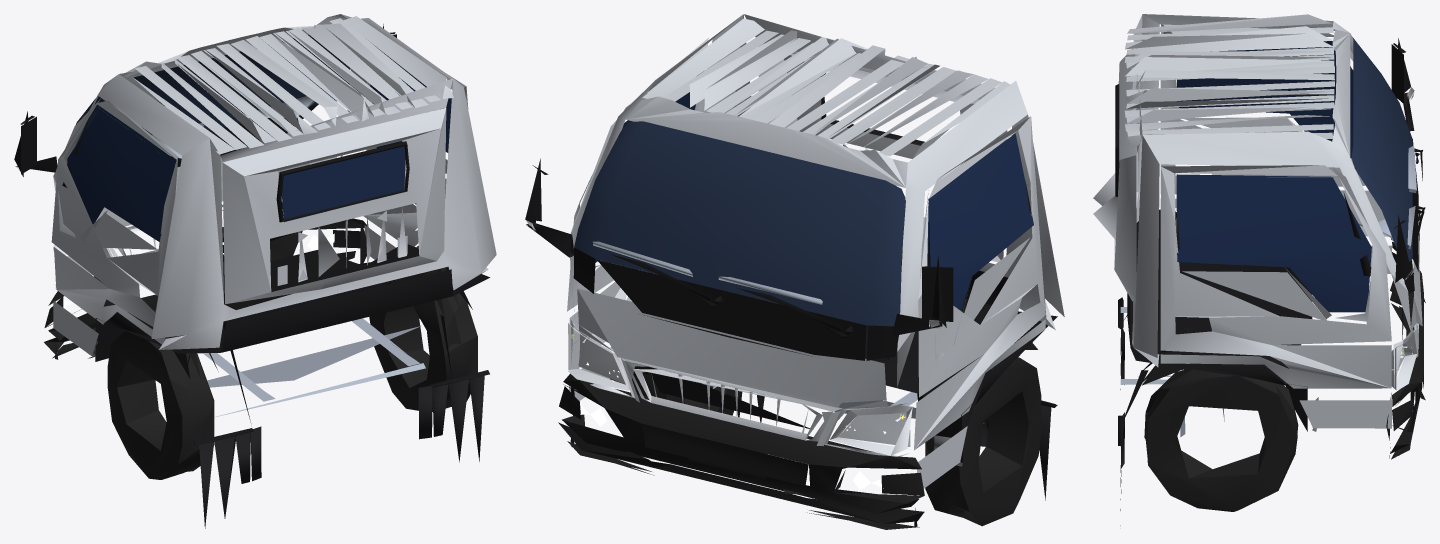
The model's file is cab_curta_lod2.glb.
The picture shows the model from 3 angles, left to right: view 1: azimuth 30°, elevation 25°; view 2: azimuth 150°, elevation 25°; view 3: azimuth 270°, elevation 25°; orthographic projection. The views are drawn at different scales.
Parts seen in each view (by area): view 1: lod2_paint_white_panel, lod2_rubber_tire, lod2_plastic_black, lod2_glass, lod2_rubber, lod2_steel, lod2_plastic_trim, lod2_glass_wind; view 2: lod2_paint_white_panel, lod2_glass_wind, lod2_plastic_trim, lod2_plastic_black, lod2_rubber_tire, lod2_chrome, lod2_glass, lod2_steel, lod2_rubber; view 3: lod2_paint_white_panel, lod2_glass, lod2_rubber_tire, lod2_plastic_black, lod2_glass_wind, lod2_plastic_trim, lod2_chrome, lod2_steel, lod2_rubber.
Part boxes in pixels (bbox=[...]): lod2_paint_white_panel: bbox=[51, 14, 496, 355]; lod2_rubber_tire: bbox=[107, 274, 477, 479]; lod2_plastic_black: bbox=[14, 24, 489, 445]; lod2_glass: bbox=[67, 45, 451, 241]; lod2_rubber: bbox=[199, 375, 484, 528]; lod2_steel: bbox=[144, 96, 425, 417]; lod2_plastic_trim: bbox=[44, 218, 472, 423]; lod2_glass_wind: bbox=[67, 34, 350, 164]; lod2_paint_white_panel: bbox=[567, 14, 1064, 488]; lod2_glass_wind: bbox=[574, 121, 905, 326]; lod2_plastic_trim: bbox=[558, 343, 1037, 529]; lod2_plastic_black: bbox=[525, 73, 1057, 462]; lod2_rubber_tire: bbox=[632, 357, 1041, 526]; lod2_chrome: bbox=[526, 220, 940, 456]; lod2_glass: bbox=[595, 71, 1033, 310]; lod2_steel: bbox=[593, 241, 984, 423]; lod2_rubber: bbox=[737, 391, 1051, 500]; lod2_paint_white_panel: bbox=[1093, 14, 1422, 428]; lod2_glass: bbox=[1176, 41, 1371, 312]; lod2_rubber_tire: bbox=[1144, 355, 1298, 511]; lod2_plastic_black: bbox=[1115, 38, 1425, 446]; lod2_glass_wind: bbox=[1351, 37, 1412, 261]; lod2_plastic_trim: bbox=[1121, 211, 1425, 459]; lod2_chrome: bbox=[1391, 87, 1418, 390]; lod2_steel: bbox=[1120, 145, 1416, 437]; lod2_rubber: bbox=[1120, 327, 1124, 525].
Bounding box in the file's own units: 2.86 × 2.79 × 2.15.
12 materials, 5 textured.
